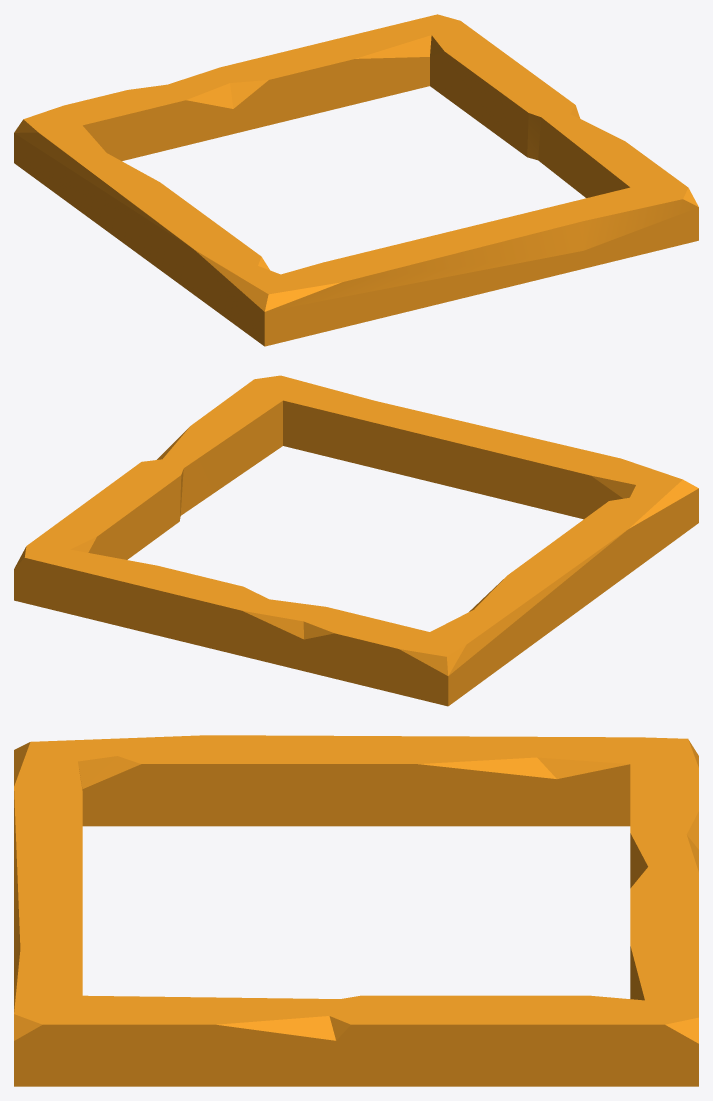
The model's file is SM_Buildings_FloorHole_1x1_01P.fbx.
3 renders of one model, top to bottom at view 1: azimuth 30°, elevation 25°; view 2: azimuth 150°, elevation 25°; view 3: azimuth 270°, elevation 25°, orthographic. The views are drawn at different scales.
Visible parts, largest first — view 1: SM_Buildings_FloorHole_1x1_01P; view 2: SM_Buildings_FloorHole_1x1_01P; view 3: SM_Buildings_FloorHole_1x1_01P.
Boxes of the visible parts, left/top/right/bottom form: SM_Buildings_FloorHole_1x1_01P: left=14, top=14, right=698, bottom=346; SM_Buildings_FloorHole_1x1_01P: left=14, top=375, right=698, bottom=706; SM_Buildings_FloorHole_1x1_01P: left=14, top=735, right=698, bottom=1086.
Bounding box in the file's own units: 100 × 10 × 100.
